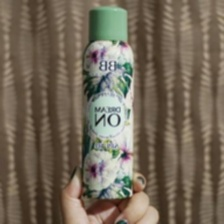aerosol_cans: (78, 2, 136, 202)
